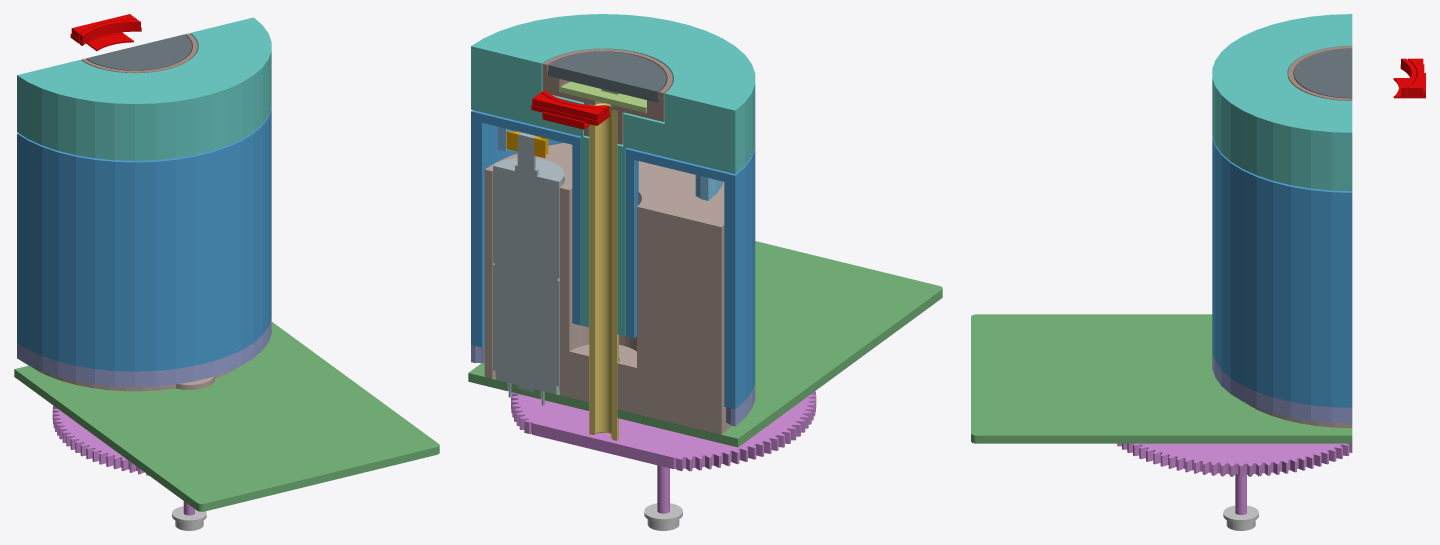
The model's file is knob-stack-v0.8-half-section.glb.
3 views of the same model, side by side, from view 1: azimuth 30°, elevation 25°; view 2: azimuth 150°, elevation 25°; view 3: azimuth 270°, elevation 25° (orthographic). The views are drawn at different scales.
Visible parts, largest first — view 1: knob_cap_skirt_tube, PCB, control_dial, bottom_internal_ring, TFT_glass, encoder_big_gear, base_cradle, encoder_bearing_2__back_panel, screen_holder, CLASH_screen_holder___TFT_glass; view 2: base_cradle, control_dial, PCB, knob_cap_skirt_tube, motor, encoder_big_gear, brass_tube, TFT_glass, screen_holder, adapter_board, CLASH_control_dial___TFT_glass, internal_ring_68T (+4 smaller); view 3: PCB, knob_cap_skirt_tube, control_dial, encoder_big_gear, TFT_glass, bottom_internal_ring, encoder_bearing_2__back_panel, screen_holder.
Part boxes in pixels (x1,y1,x2,y2): knob_cap_skirt_tube: (17, 108, 271, 371); PCB: (14, 322, 439, 511); control_dial: (17, 17, 271, 160); bottom_internal_ring: (17, 319, 271, 386); TFT_glass: (86, 34, 191, 70); encoder_big_gear: (52, 405, 148, 475); base_cradle: (32, 367, 238, 391); encoder_bearing_2__back_panel: (172, 506, 206, 530); screen_holder: (81, 33, 197, 73); CLASH_screen_holder___TFT_glass: (80, 20, 140, 41); base_cradle: (484, 143, 730, 434); control_dial: (471, 14, 755, 336); PCB: (468, 241, 942, 447); knob_cap_skirt_tube: (471, 110, 755, 409); motor: (493, 132, 563, 405); encoder_big_gear: (511, 391, 816, 471); brass_tube: (589, 103, 618, 440); TFT_glass: (548, 51, 666, 97); screen_holder: (542, 49, 672, 144); adapter_board: (560, 81, 646, 112); CLASH_control_dial___TFT_glass: (532, 92, 605, 120); internal_ring_68T: (497, 126, 723, 200); PCB: (971, 314, 1352, 443); knob_cap_skirt_tube: (1212, 137, 1352, 407); control_dial: (1212, 14, 1352, 191); encoder_big_gear: (1117, 443, 1352, 476); TFT_glass: (1294, 48, 1352, 98); bottom_internal_ring: (1212, 354, 1352, 423); encoder_bearing_2__back_panel: (1223, 505, 1258, 530); screen_holder: (1288, 46, 1352, 100).
Size of the model in its own units: 0.049 by 0.085 by 0.0776.
